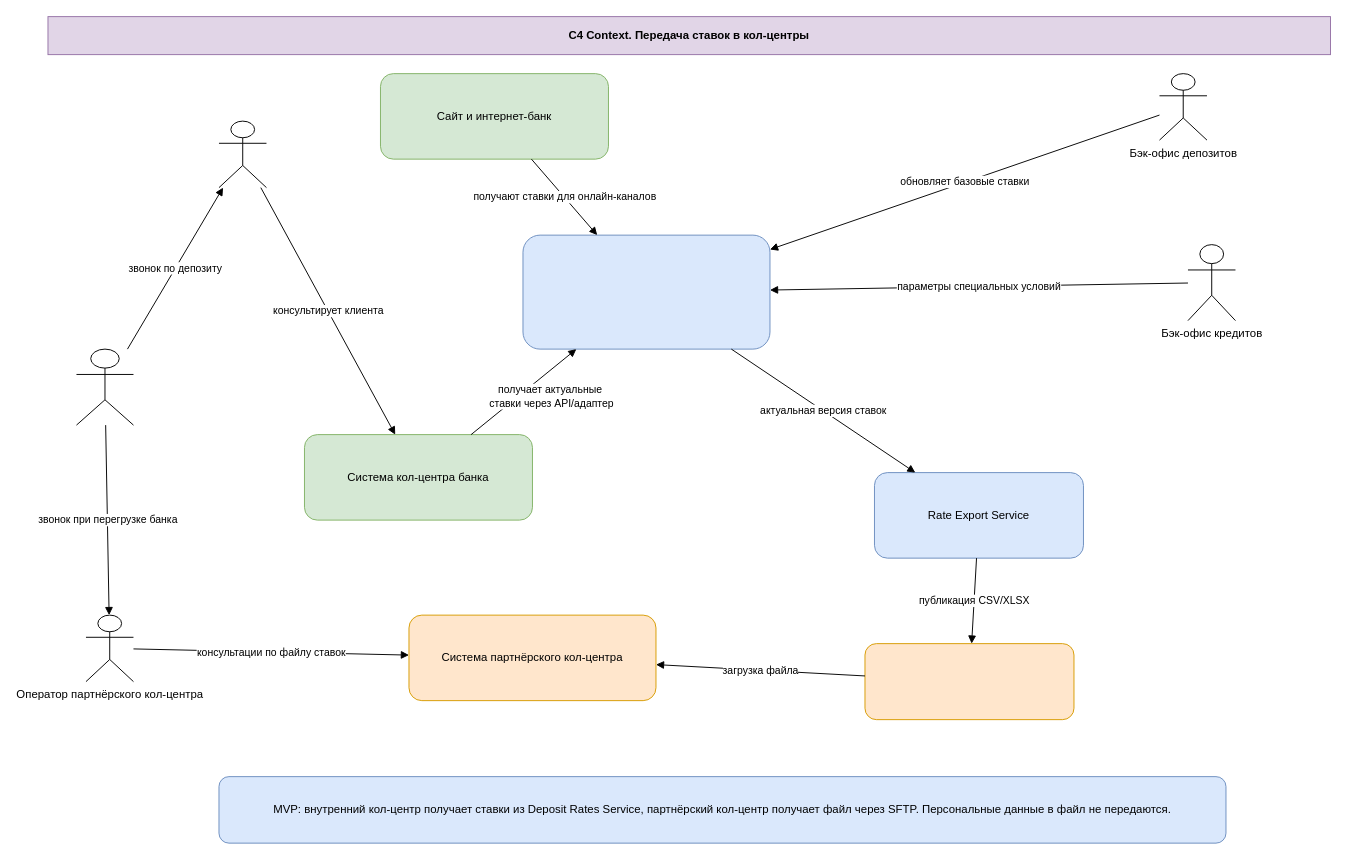
Some shapes in this 1347 by 860 pixel diagram are drawn without their labels. The centre of each missing label's shape, as x and y in pixels:
Deposit Rates Service единый источник ставок: the point at 646,291
SFTP файловый обмен: the point at 969,681
Клиент: the point at 104,386
Оператор внутреннего кол-центра: the point at 242,154
